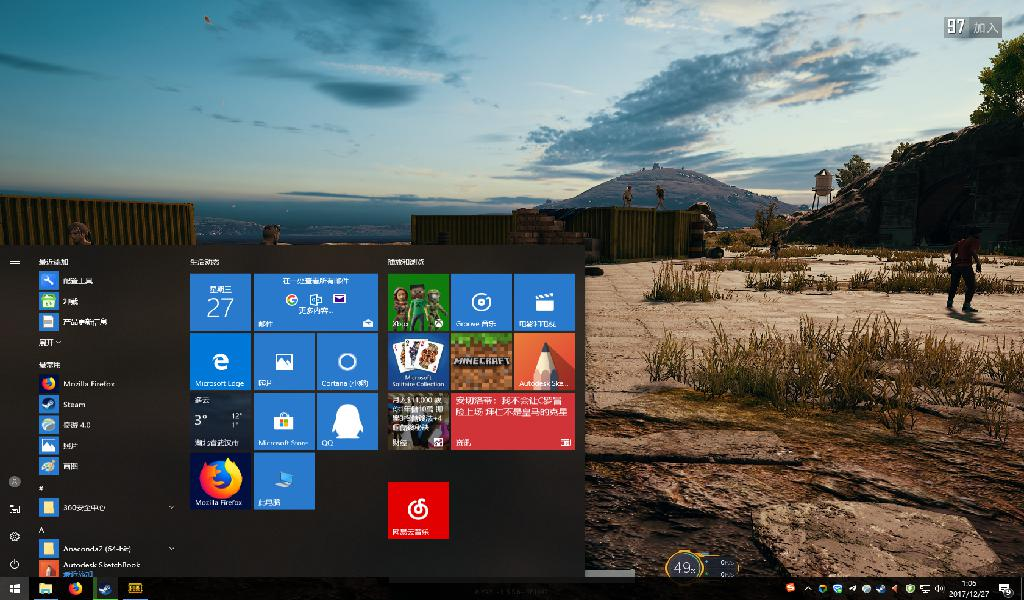Target Person: (946, 229, 981, 315), (54, 217, 102, 252), (250, 219, 288, 252), (618, 181, 635, 216), (767, 231, 783, 267), (652, 182, 667, 216)
